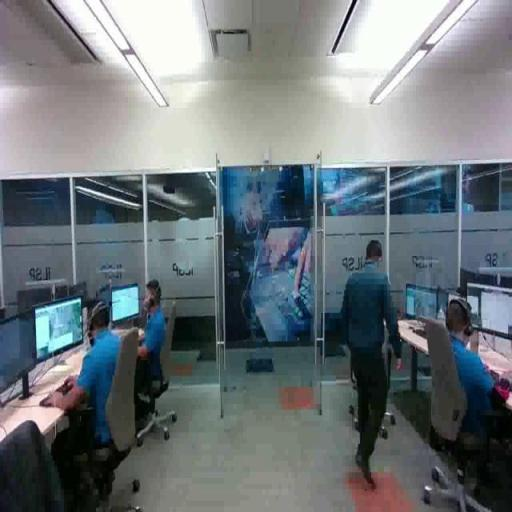person: (43, 297, 142, 491), (338, 227, 407, 496), (426, 294, 512, 481), (114, 277, 173, 422)
